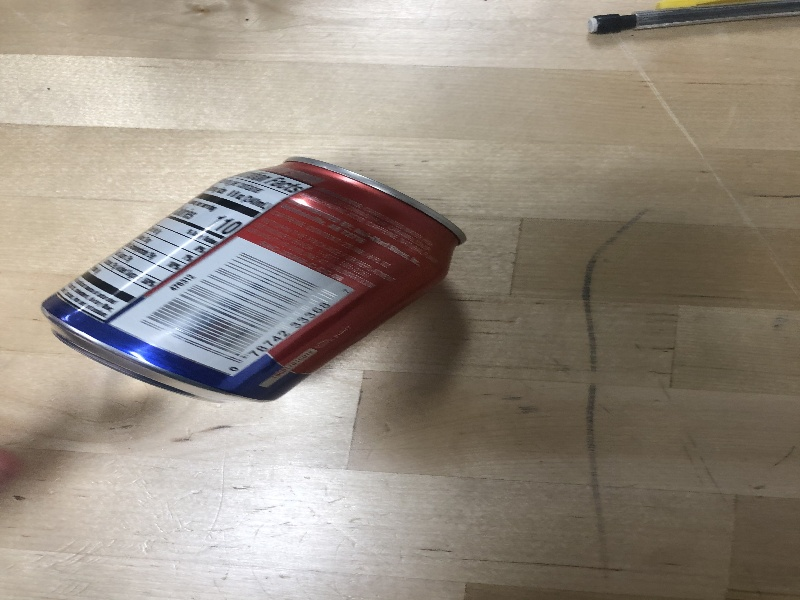metal: (39, 152, 471, 410)
